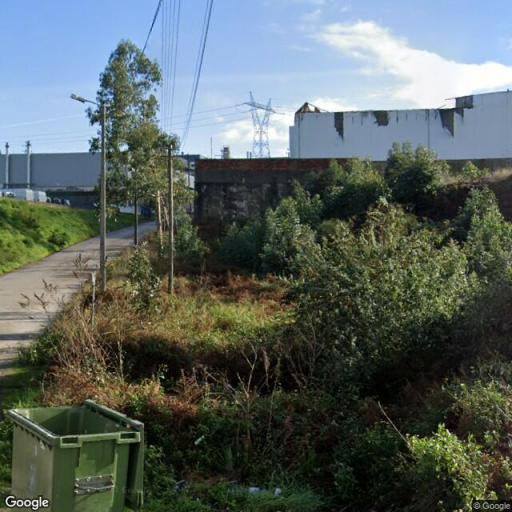wt_6: (239, 88, 279, 158)
